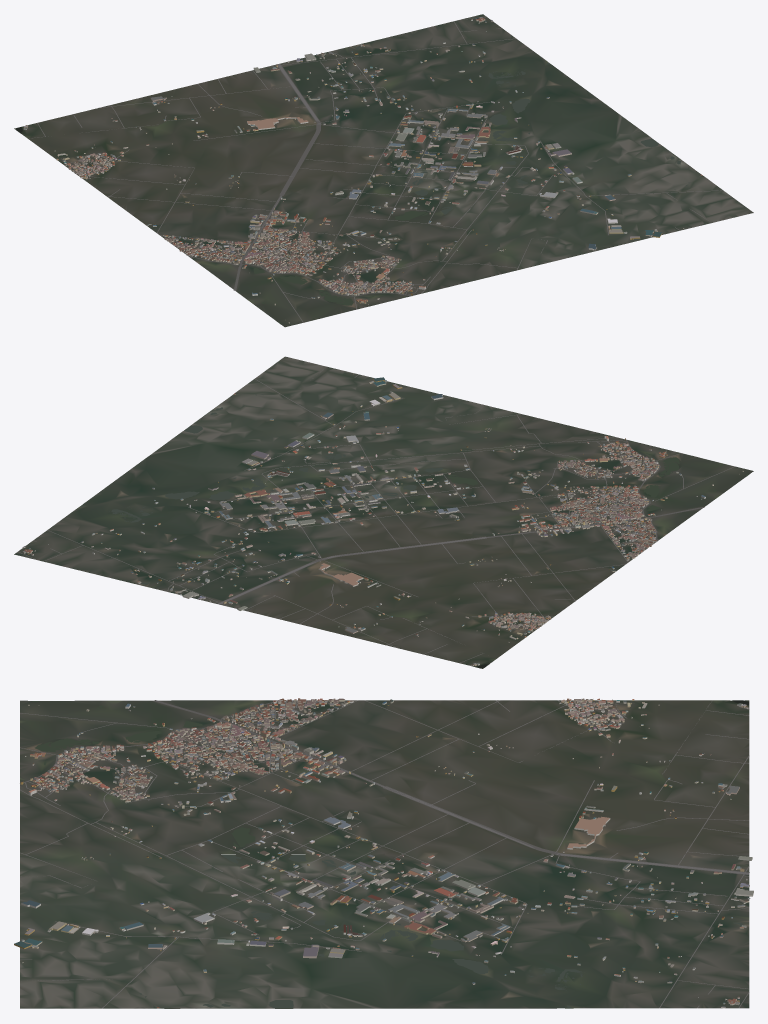
3 renders of one model, top to bottom at view 1: azimuth 30°, elevation 25°; view 2: azimuth 150°, elevation 25°; view 3: azimuth 270°, elevation 25°, orthographic. The views are drawn at different scales.
Parts seen in each view (by area): view 1: ground, buildings, roads, water; view 2: ground, buildings, roads, water; view 3: ground, buildings, roads, water.
Part boxes in pixels (x1,y1,x2,y2): ground: (14, 14, 753, 327); buildings: (23, 17, 702, 323); roads: (27, 16, 723, 322); water: (16, 46, 690, 323); ground: (14, 356, 753, 668); buildings: (22, 373, 743, 665); roads: (18, 369, 734, 665); water: (80, 394, 749, 668); ground: (20, 700, 749, 1008); buildings: (14, 698, 753, 1008); roads: (20, 700, 749, 1008); water: (32, 700, 748, 1008).
Bounding box in the file's own units: 2810 × 22.57 × 2845.
